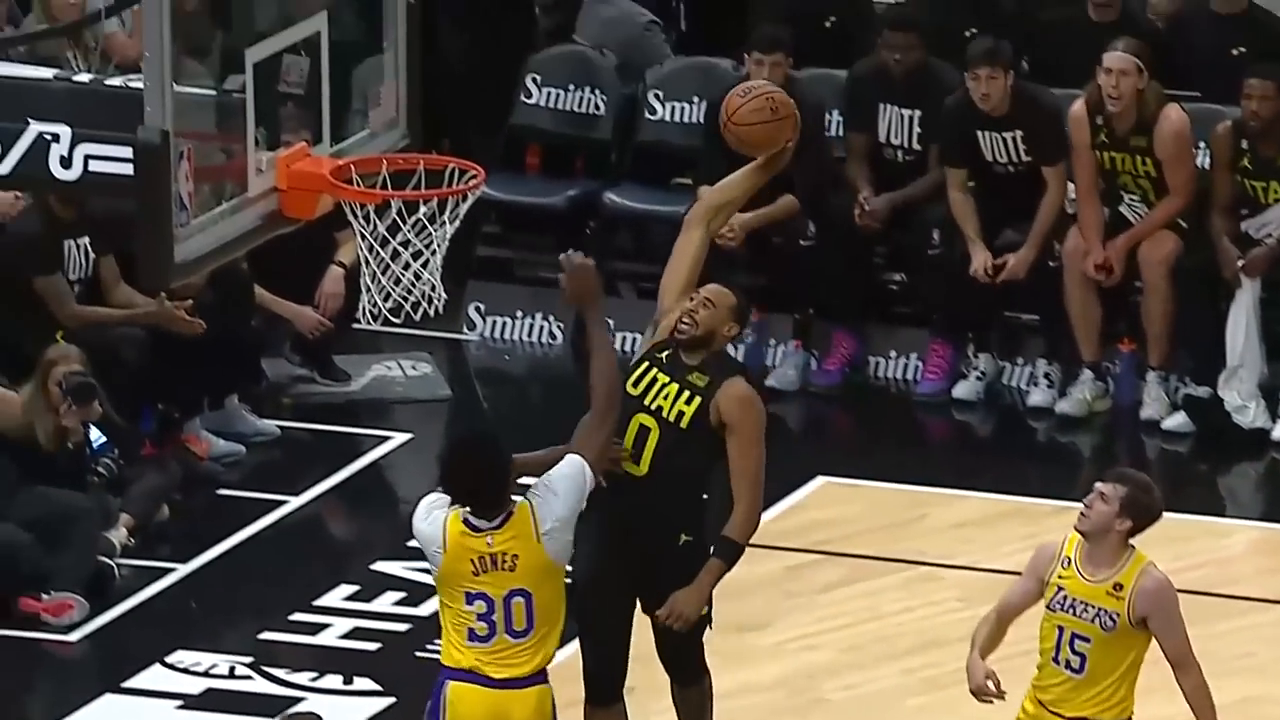ball: (712, 73, 806, 166)
net: (327, 145, 487, 329)
